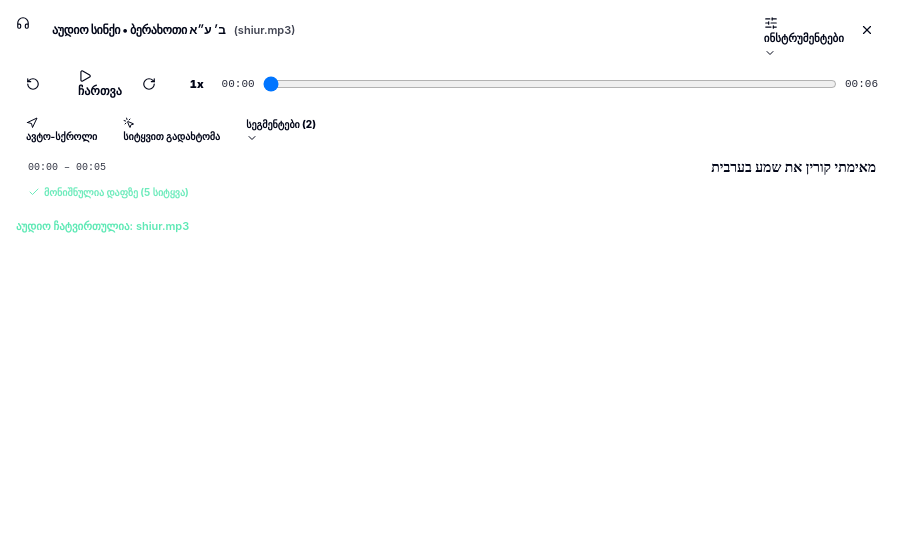
DafAudioSyncPanel › uploads local audio, invokes /api/talmud/audio-sync-transcribe, and aligns returned segments
The image size is (905, 534).
Earlier steps of the test are not shown.
Check: the text "აუდიო ჩატვირთულია: shiur.mp3" is shown, box top-left (16, 219), bottom-right (189, 233)
Click the button "ინსტრუმენტები" at [804, 30], box top-left (754, 16), bottom-right (854, 44)
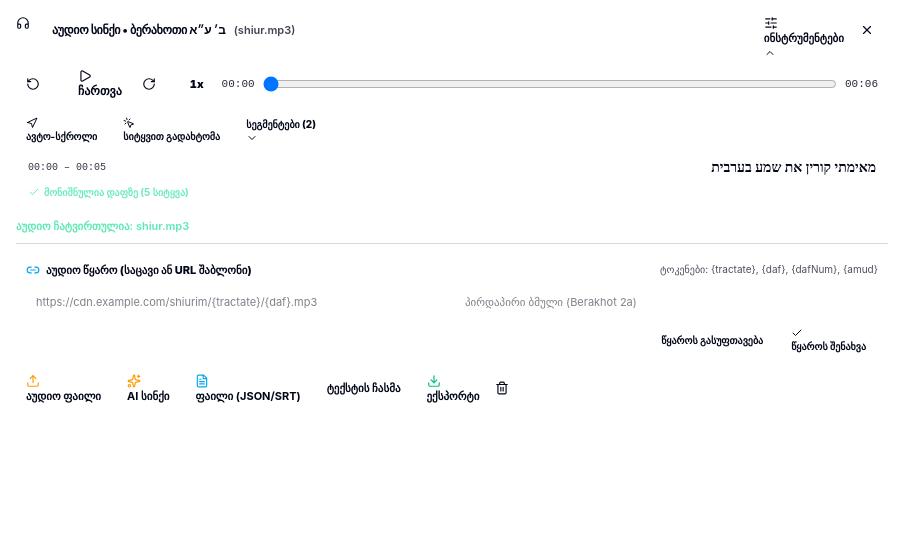
Click the button "AI სინქი" at [148, 388], box top-left (117, 374), bottom-right (179, 402)
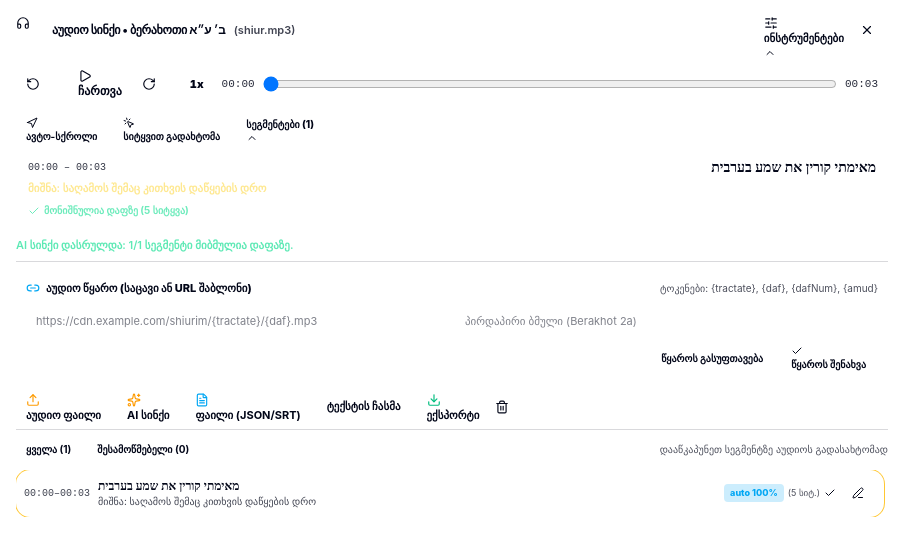
Check: the element with test id "active-sync-preview" shows "მიშნა: საღამოს შემაც კითხვის დაწყების დრო", box top-left (28, 181), bottom-right (266, 195)
